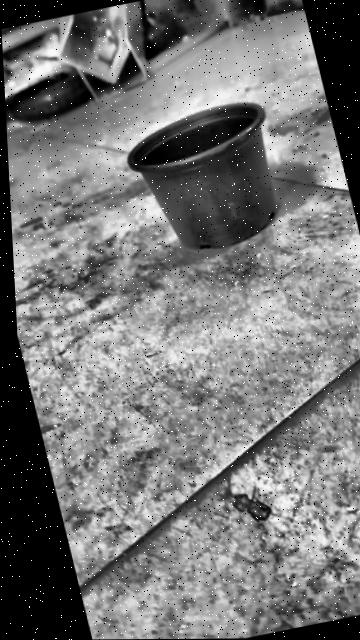pot: (118, 98, 296, 262)
